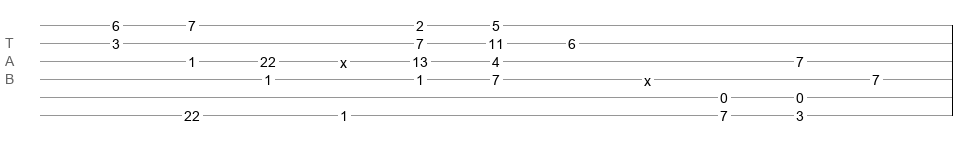0: (720, 90, 728, 100), (796, 90, 804, 100)
1: (188, 54, 196, 64), (264, 72, 272, 82), (340, 108, 348, 118), (416, 72, 424, 82)
11: (488, 36, 504, 46)
13: (412, 54, 428, 64)
2: (416, 18, 424, 28)
22: (184, 108, 200, 118), (260, 54, 276, 64)
3: (112, 36, 120, 46), (796, 108, 804, 118)
4: (492, 54, 500, 64)
5: (492, 18, 500, 28)
6: (112, 18, 120, 28), (568, 36, 576, 46)
7: (188, 18, 196, 28), (416, 36, 424, 46), (492, 72, 500, 82), (720, 108, 728, 118), (796, 54, 804, 64), (872, 72, 880, 82)
x: (340, 55, 347, 63), (644, 73, 651, 81)
